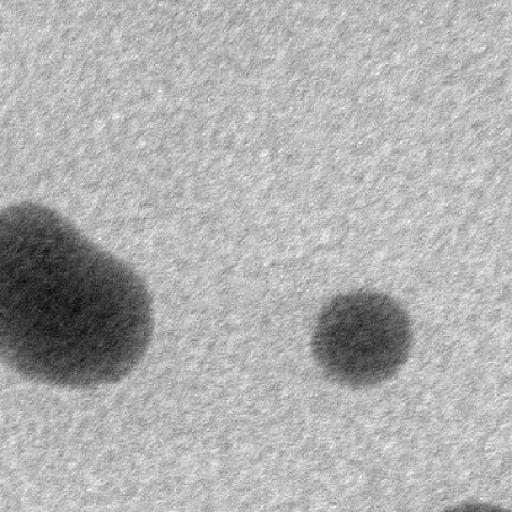Nanoparticles: (0, 241, 159, 386), (310, 285, 414, 394), (1, 202, 72, 304), (443, 500, 509, 510)
